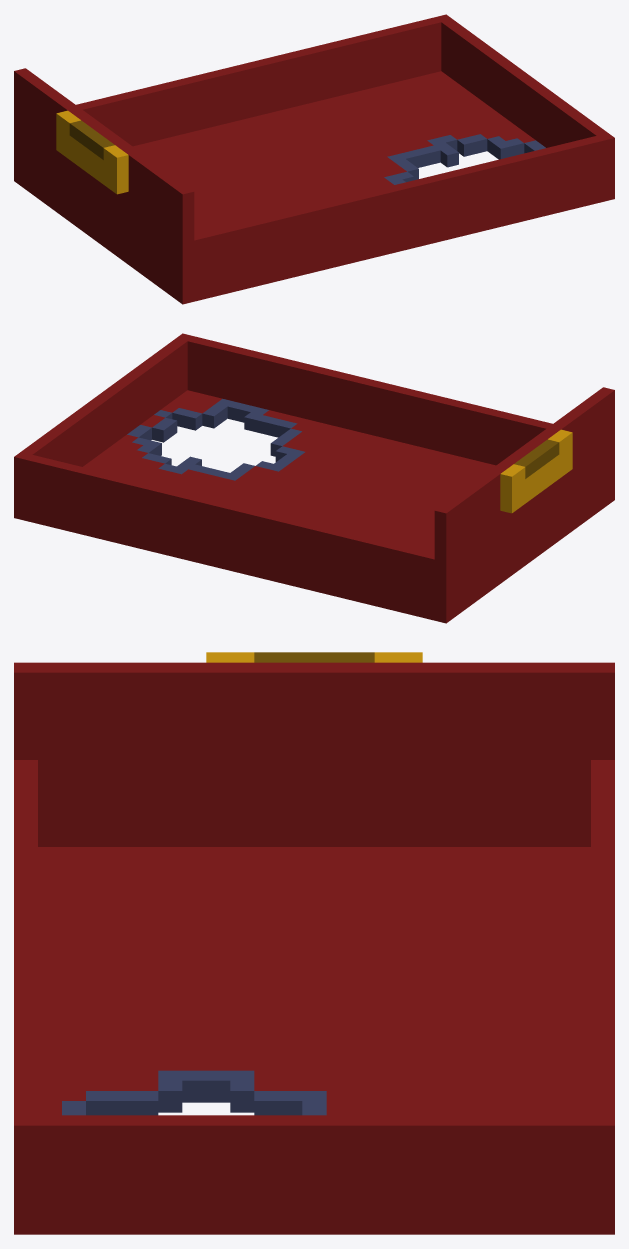
The model's file is CajonChico2.fbx.
The picture shows the model from 3 angles, top to bottom: view 1: azimuth 30°, elevation 25°; view 2: azimuth 150°, elevation 25°; view 3: azimuth 270°, elevation 25°; orthographic projection. The views are drawn at different scales.
Visible parts, largest first — view 1: Cajon_chico_2; view 2: Cajon_chico_2; view 3: Cajon_chico_2.
Boxes of the visible parts, x1,y1,x2,y2 form: Cajon_chico_2: [14, 14, 614, 304]; Cajon_chico_2: [14, 333, 614, 623]; Cajon_chico_2: [14, 652, 614, 1234].
Size of the model in its own units: 380 by 90 by 250.
